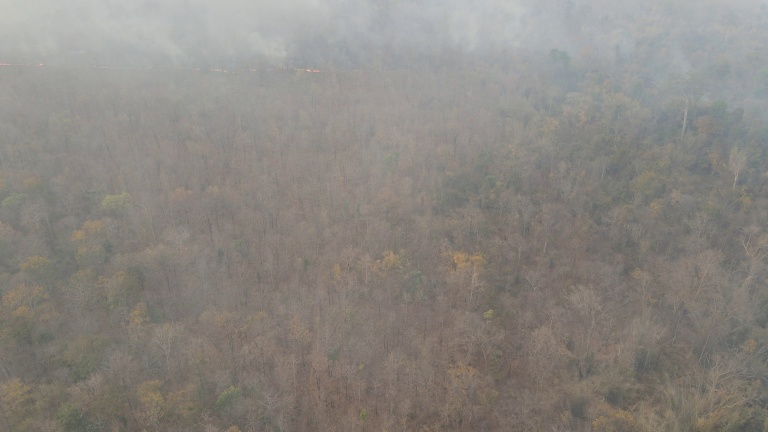fire: (3, 56, 323, 75)
smoke: (1, 1, 768, 96)
